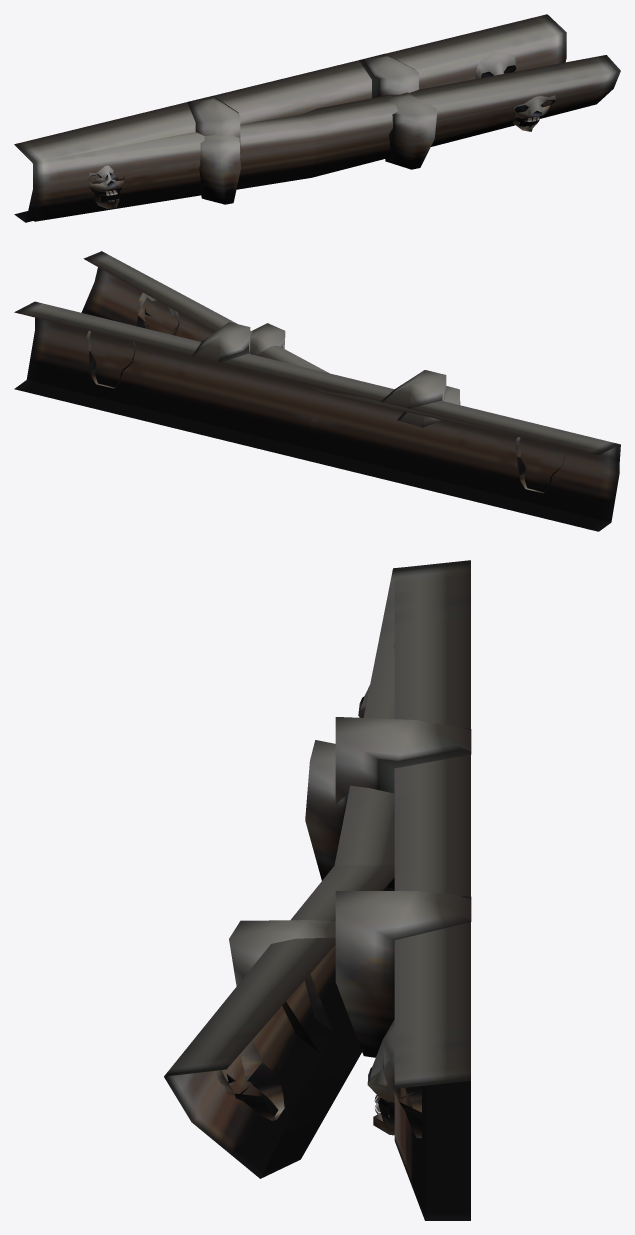
The model's file is rbmp_lr_rem1.glb.
3 views of the same model, one above another, from view 1: azimuth 30°, elevation 25°; view 2: azimuth 150°, elevation 25°; view 3: azimuth 270°, elevation 25° (orthographic). The views are drawn at different scales.
Parts seen in each view (by area): view 1: rbmp_lr_rem1_dam, rbmp_lr_rem1; view 2: rbmp_lr_rem1, rbmp_lr_rem1_dam; view 3: rbmp_lr_rem1, rbmp_lr_rem1_dam.
Boxes of the visible parts, bbox=[...] form: rbmp_lr_rem1_dam: bbox=[15, 55, 620, 221]; rbmp_lr_rem1: bbox=[14, 14, 566, 222]; rbmp_lr_rem1: bbox=[14, 301, 619, 531]; rbmp_lr_rem1_dam: bbox=[81, 251, 620, 482]; rbmp_lr_rem1: bbox=[335, 560, 471, 1220]; rbmp_lr_rem1_dam: bbox=[164, 567, 401, 1178].
Size of the model in its own units: 1.91 by 0.3079 by 0.4756.
Materials: 2 (2 with a texture image).
